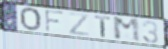3: (142, 20, 160, 44)
F: (44, 8, 65, 33)
M: (111, 16, 142, 43)
O: (20, 7, 42, 32)
T: (93, 15, 111, 38)
Z: (67, 12, 90, 37)
